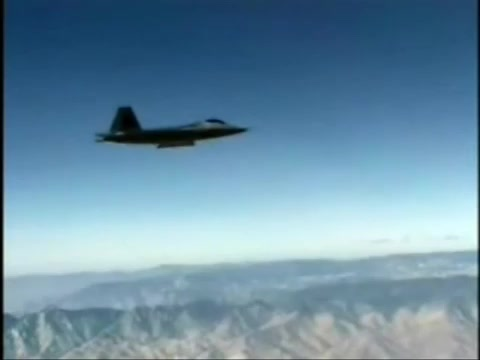aeroplane: (92, 102, 255, 149)
